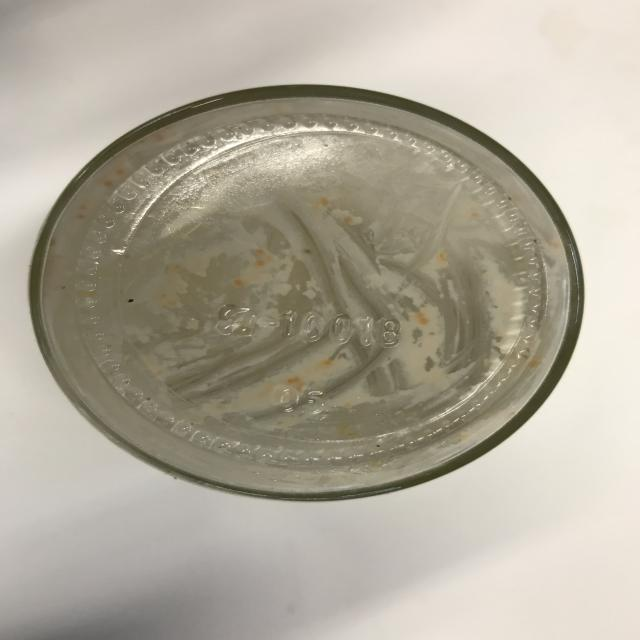glass: (28, 83, 585, 502)
